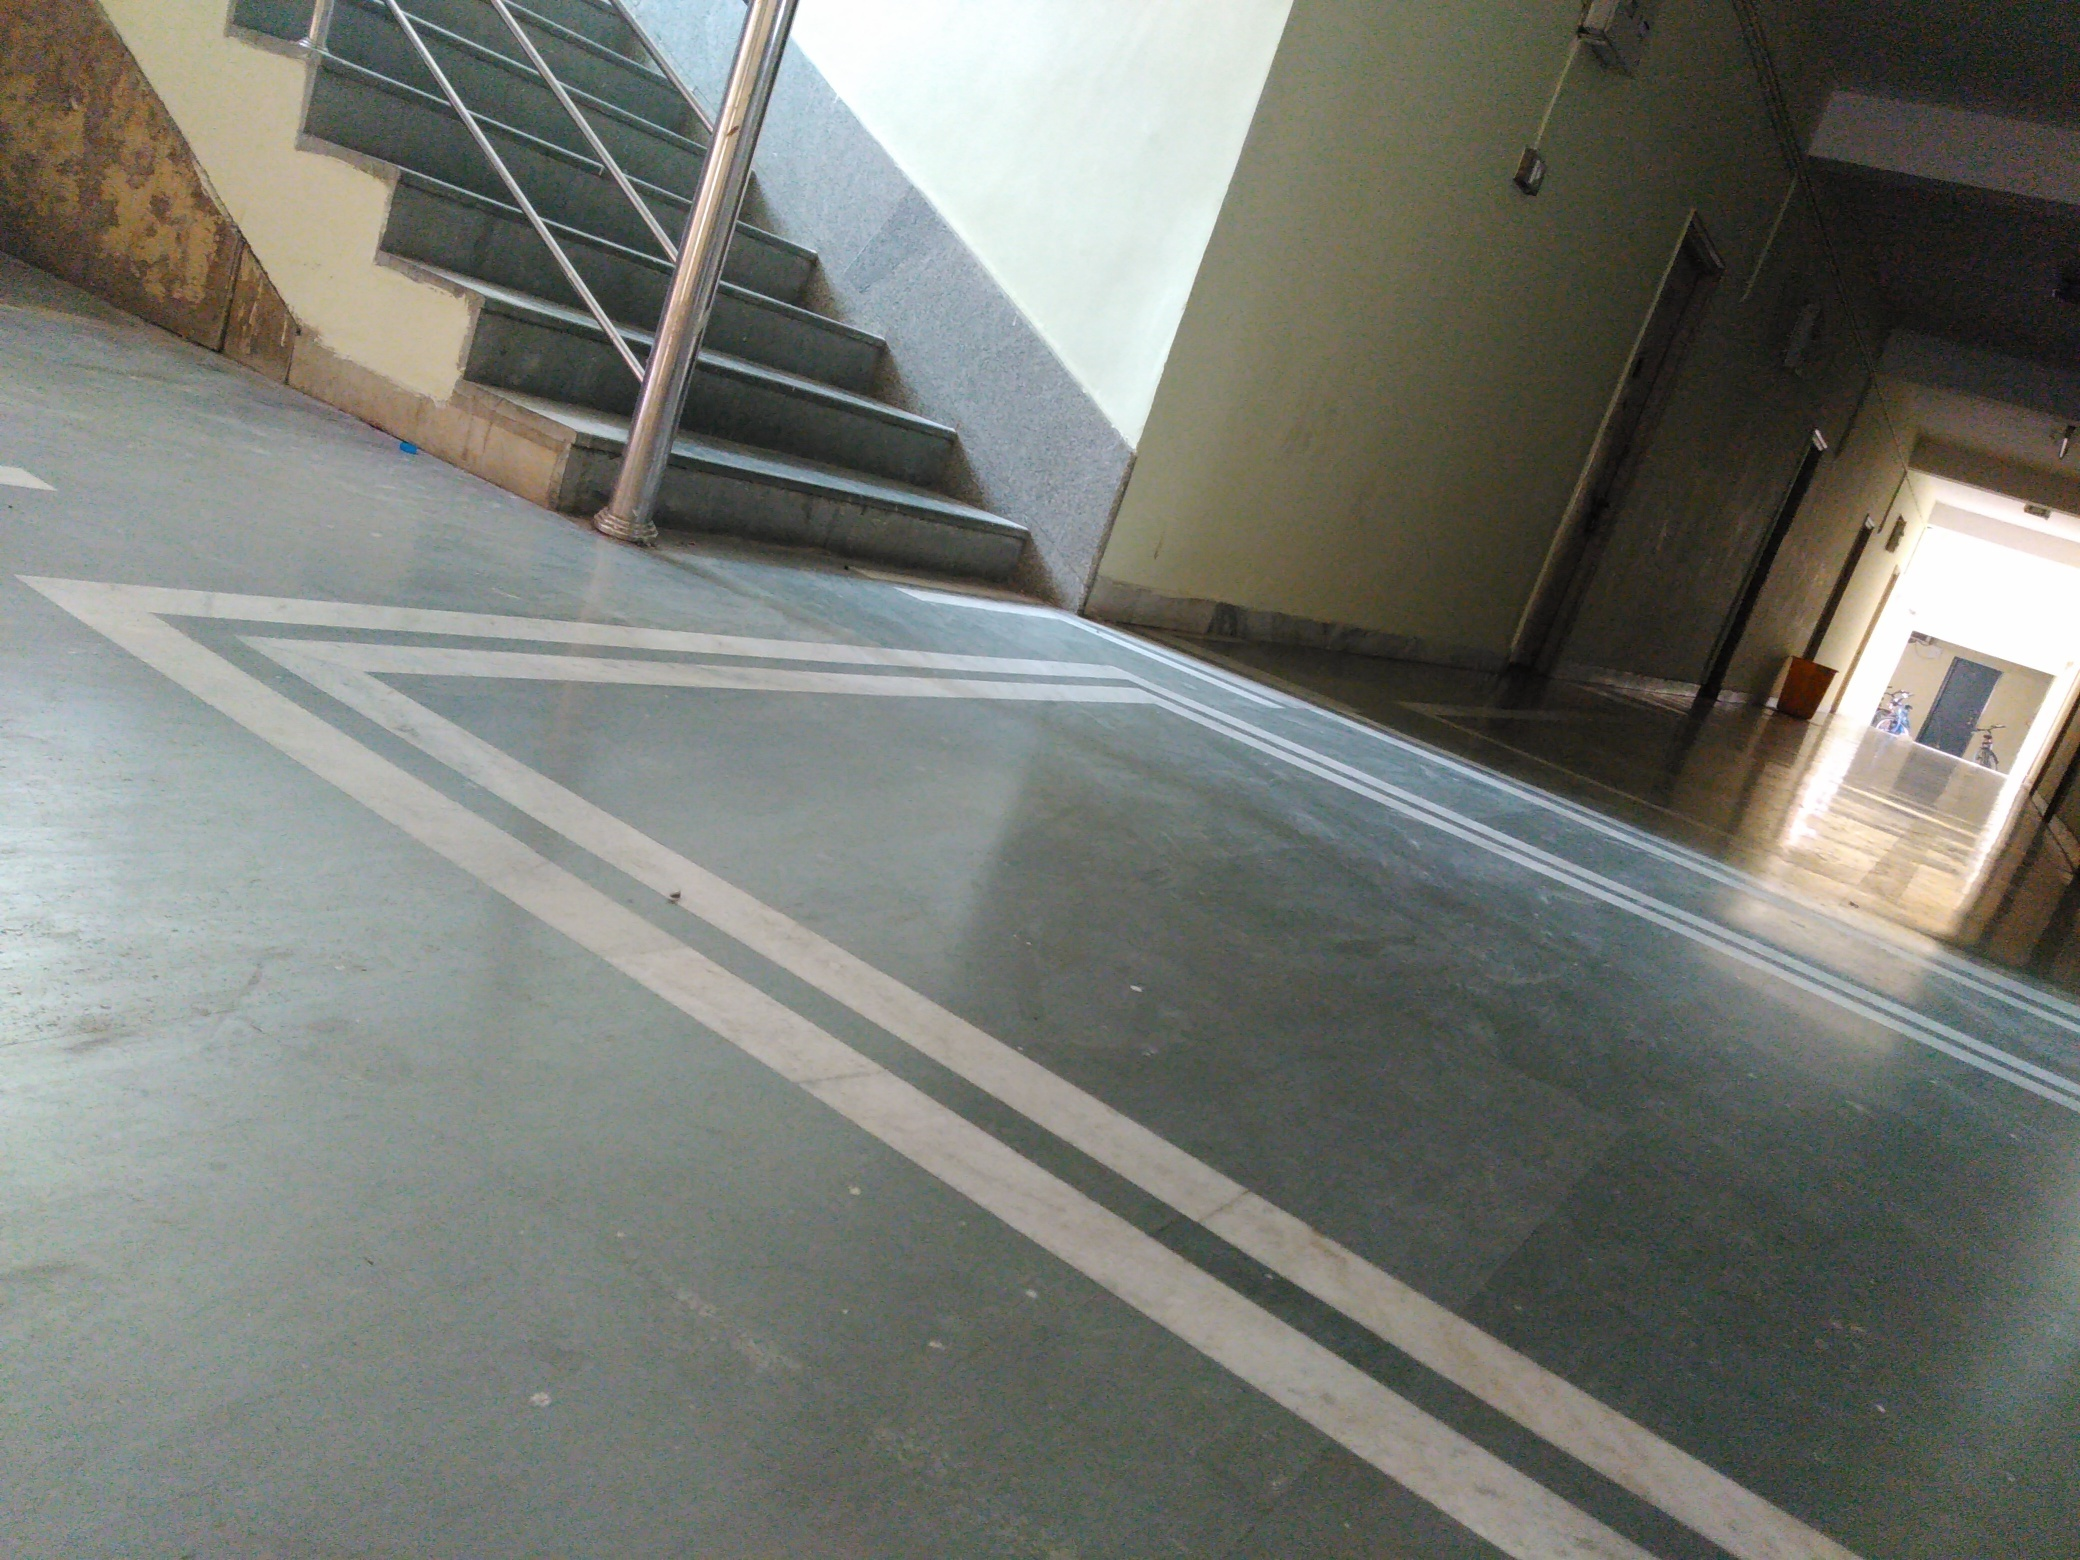stairs_up: (292, 2, 1058, 569)
